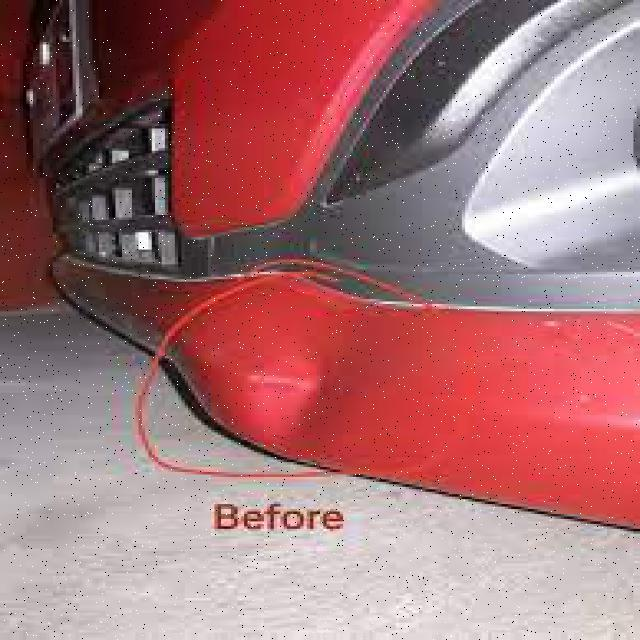front-bumper-dent: (10, 215, 637, 529)
